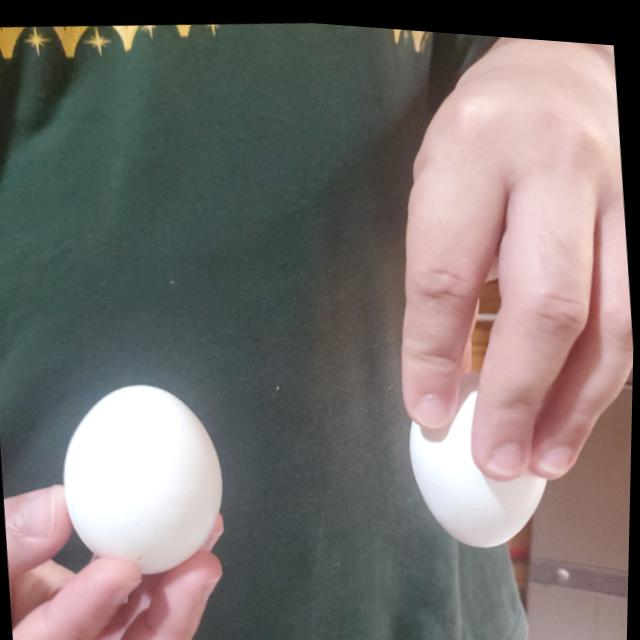egg: (56, 369, 236, 581), (402, 364, 552, 547)
